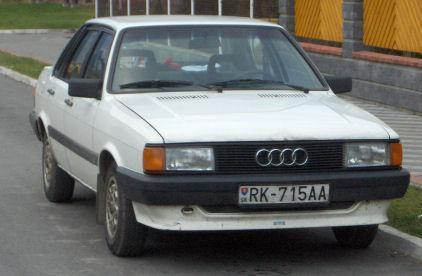placa de veiculo: (227, 179, 336, 216)
